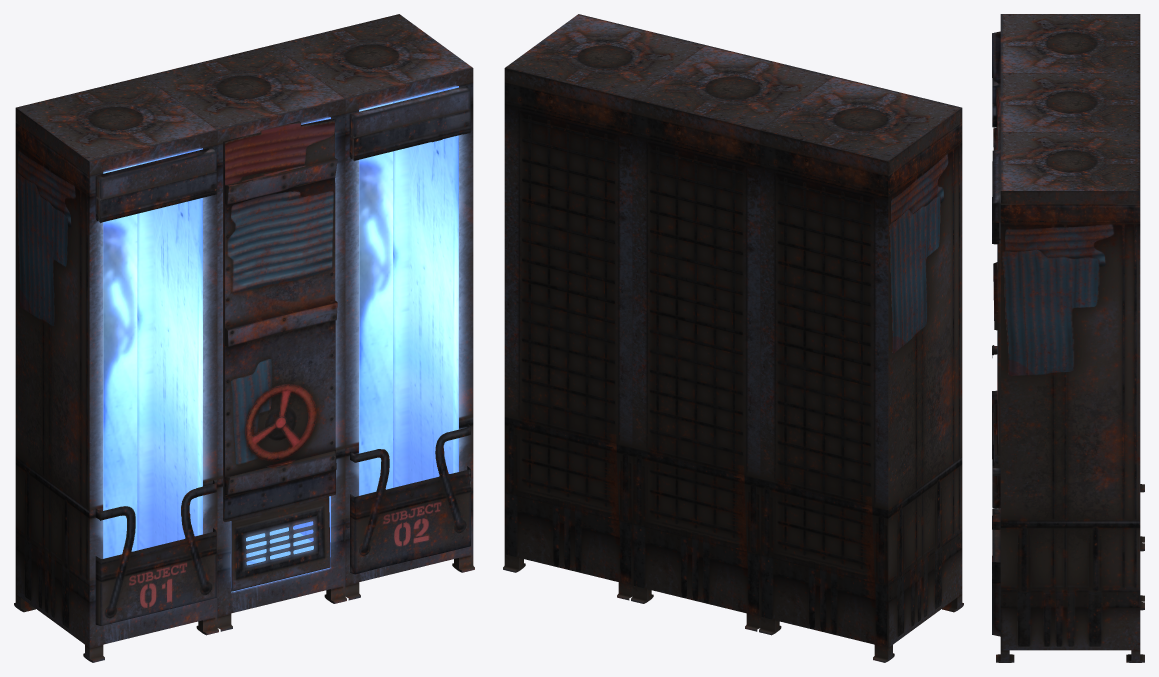
The model's file is subject.glb.
The picture shows the model from 3 angles, left to right: view 1: azimuth 30°, elevation 25°; view 2: azimuth 150°, elevation 25°; view 3: azimuth 270°, elevation 25°; orthographic projection. The views are drawn at different scales.
Visible parts, largest first — view 1: Capsulas; view 2: Capsulas; view 3: Capsulas.
Boxes of the visible parts, bbox=[...] form: Capsulas: bbox=[14, 14, 474, 662]; Capsulas: bbox=[503, 14, 963, 662]; Capsulas: bbox=[992, 14, 1144, 662].
Size of the model in its own units: 1.8 by 2.24 by 0.6566.
1 material, 1 textured.
